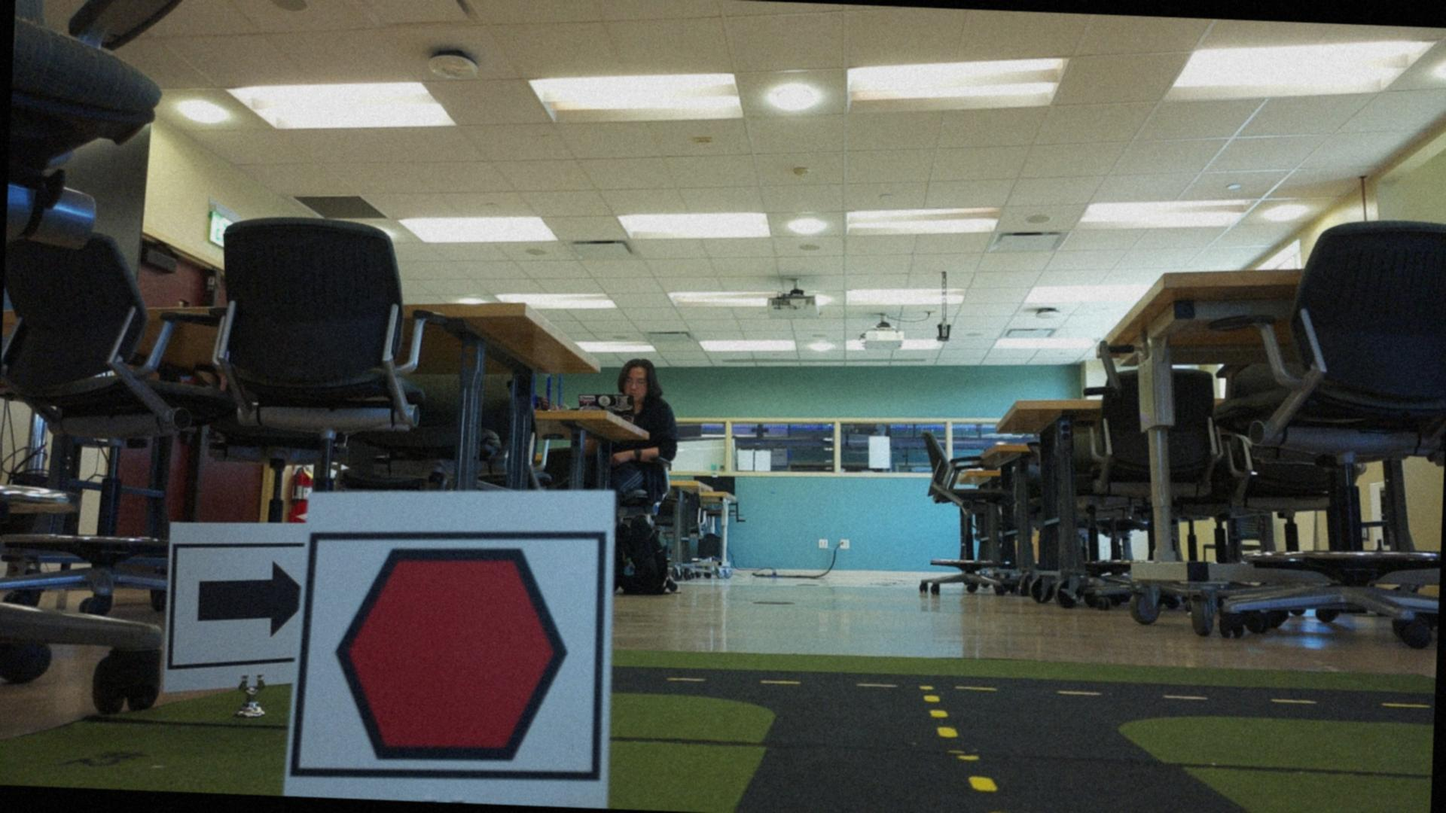stop: (315, 533, 589, 777)
turnright: (172, 548, 303, 653)
yellowline: (966, 769, 1025, 812), (923, 689, 964, 741)
